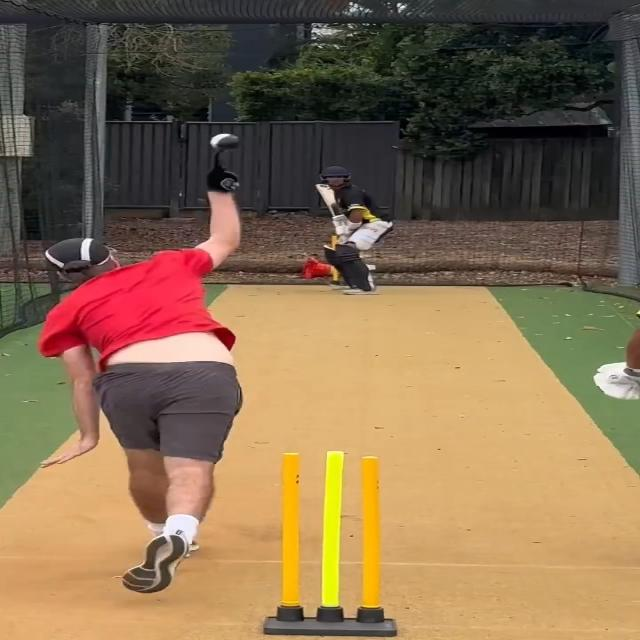stump: (256, 449, 398, 639)
